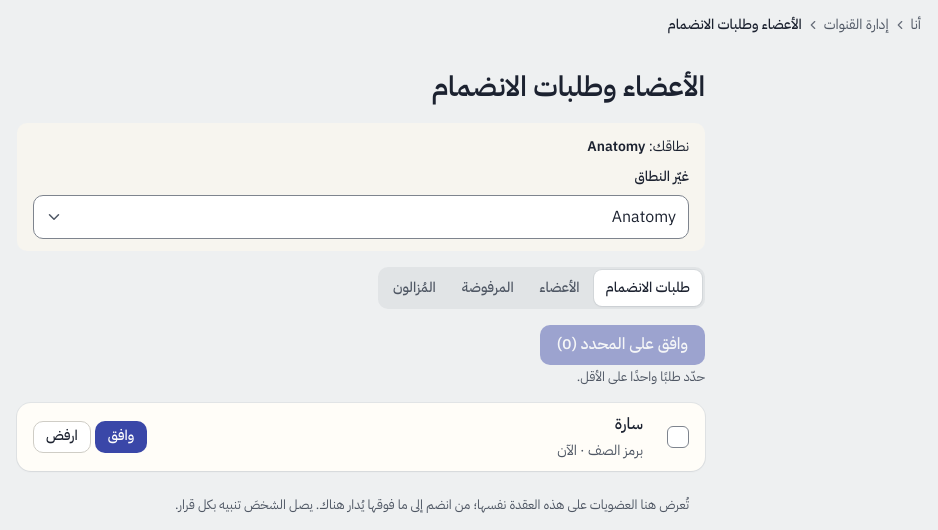
it: R4 — ticked requests do not follow the admin into another scope › a person pending in both nodes, ticked in the first, is not pre-ticked in the second
Check: the heading "الأعضاء وطلبات الانضمام" is shown, box [431,66,705,108]
Click the checkbox named "حدّد سارة" at (678, 437), box [667,426,689,448]
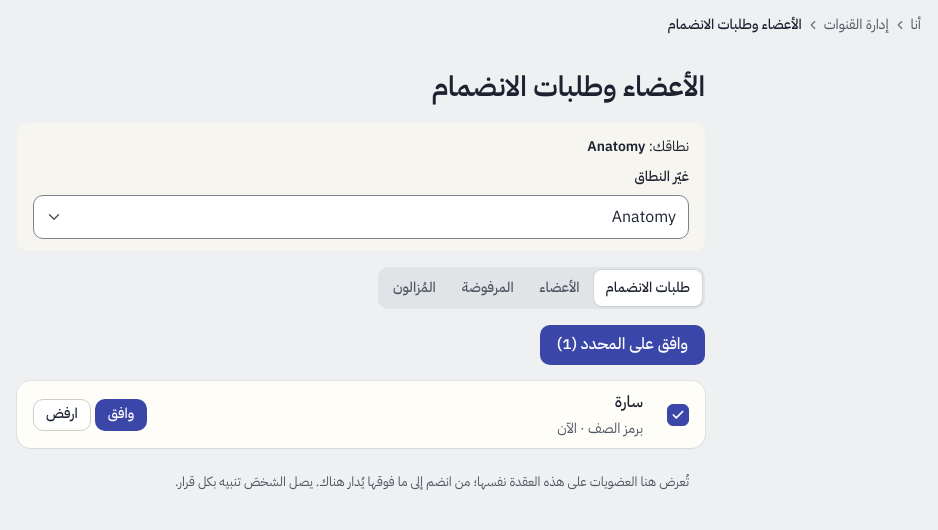
Check: the button "وافق على المحدد (1)" is shown, box [540,325,705,365]
Select "Biochemistry" in the dropdown labelled "غيّر النطاق" at (361, 217), box [33,195,689,239]
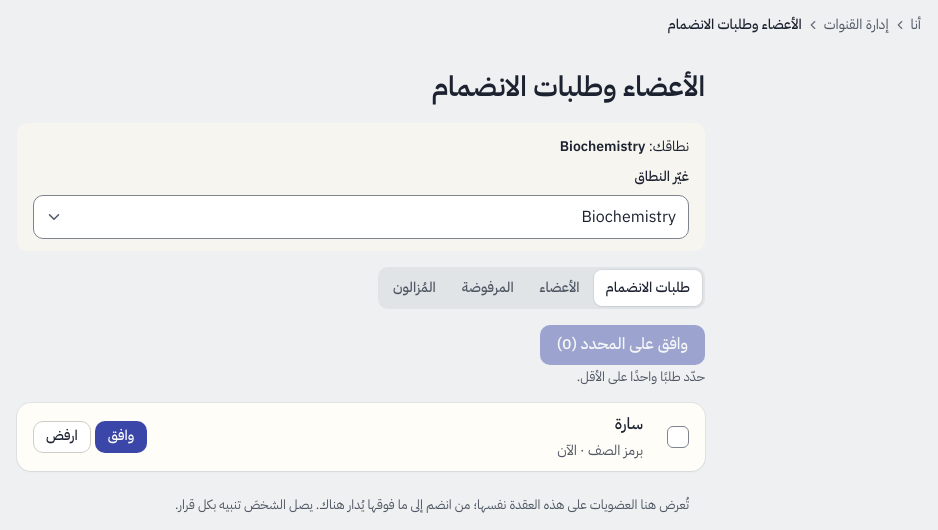
Check: the element showing "نطاقك: Biochemistry" is shown, box [560,136,689,157]
Check: the checkbox named "حدّد سارة" is not checked, box [667,426,689,448]
Check: the button "وافق على المحدد (0)" is shown, box [540,325,705,365]
